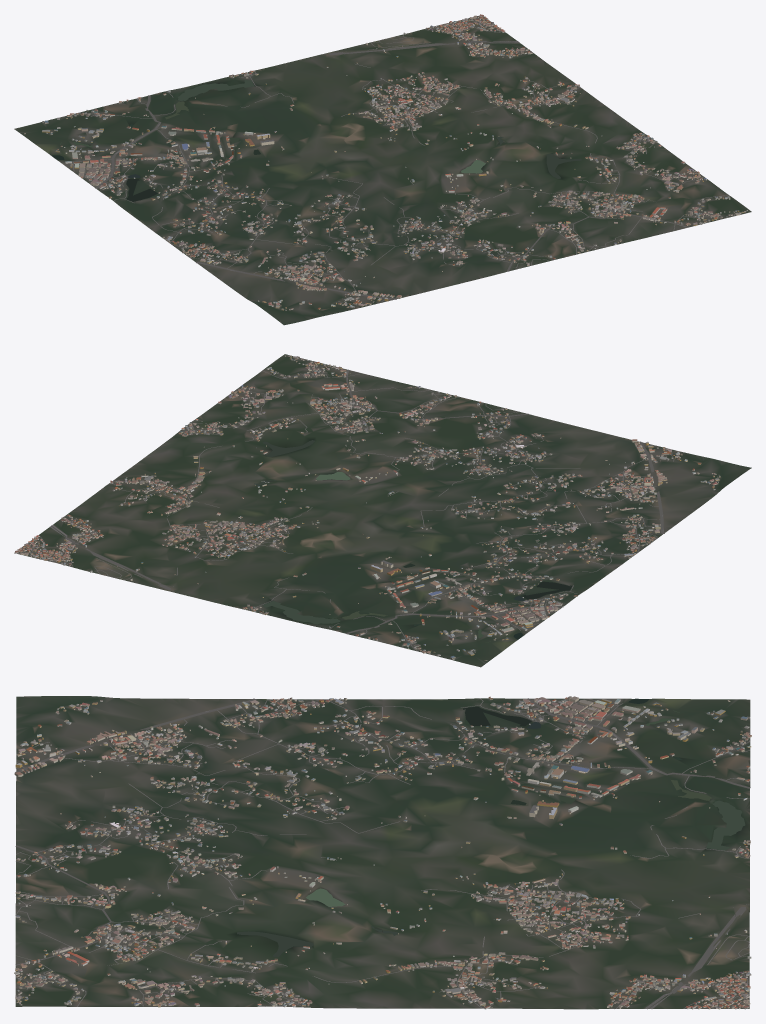
The picture shows the model from 3 angles, top to bottom: view 1: azimuth 30°, elevation 25°; view 2: azimuth 150°, elevation 25°; view 3: azimuth 270°, elevation 25°; orthographic projection. The views are drawn at different scales.
Parts seen in each view (by area): view 1: ground, buildings, roads, water; view 2: ground, buildings, roads, water; view 3: ground, buildings, roads, water.
Boxes of the visible parts, bbox=[...] form: ground: bbox=[14, 16, 751, 325]; buildings: bbox=[24, 14, 747, 310]; roads: bbox=[71, 16, 734, 305]; water: bbox=[52, 80, 581, 202]; ground: bbox=[14, 354, 751, 667]; buildings: bbox=[14, 355, 720, 660]; roads: bbox=[16, 358, 674, 651]; water: bbox=[254, 440, 571, 642]; ground: bbox=[15, 696, 750, 1009]; buildings: bbox=[14, 696, 751, 1009]; roads: bbox=[15, 698, 750, 1009]; water: bbox=[237, 698, 745, 957].
Bounding box in the file's own units: 2811 × 27.19 × 2819.
